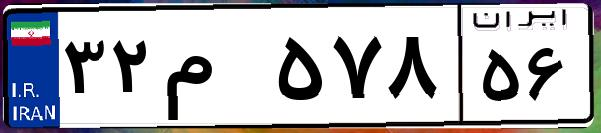2: (110, 28, 158, 98)
3: (57, 26, 110, 100)
5: (270, 28, 330, 110), (475, 38, 525, 113)
6: (525, 38, 570, 115)
7: (330, 28, 385, 110)
8: (385, 28, 445, 110)
م: (158, 20, 270, 120)
